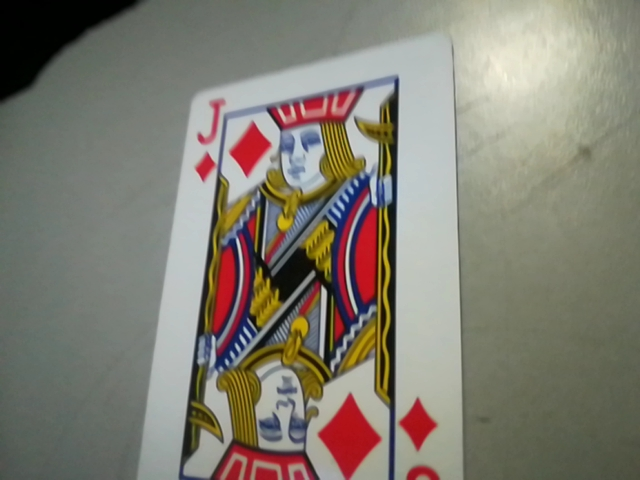fk j: (181, 96, 229, 185)
